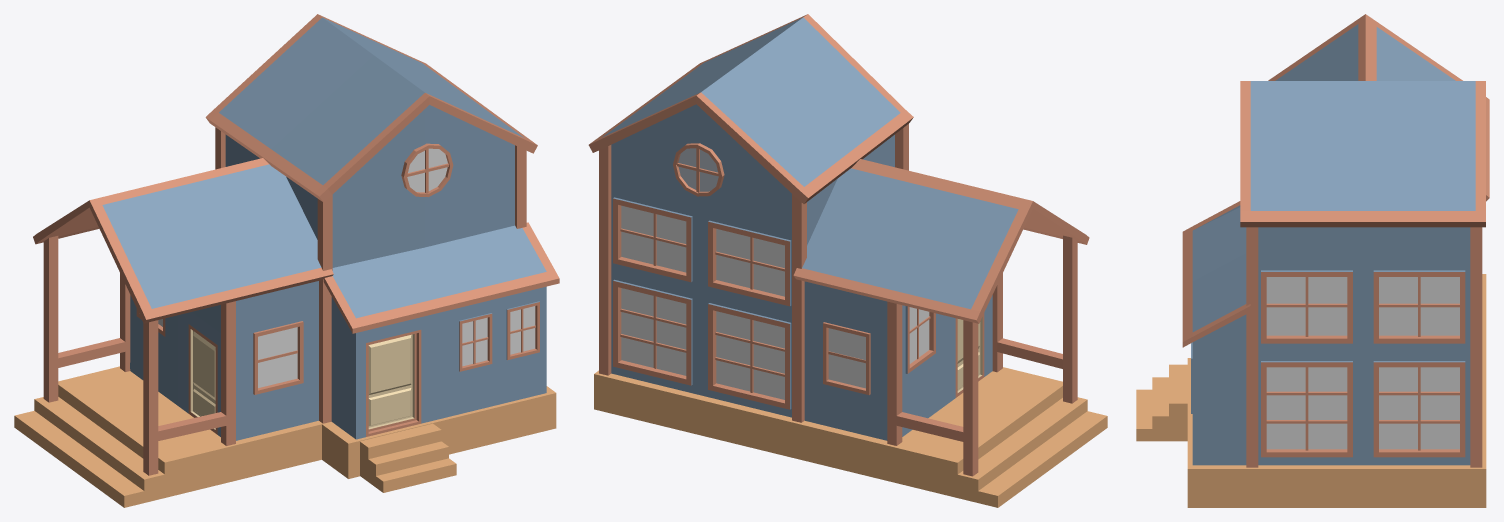
The model's file is suburban-house-A.fbx.
The picture shows the model from 3 angles, left to right: view 1: azimuth 30°, elevation 25°; view 2: azimuth 150°, elevation 25°; view 3: azimuth 270°, elevation 25°; orthographic projection. The views are drawn at different scales.
Parts seen in each view (by area): view 1: suburban-house-A; view 2: suburban-house-A; view 3: suburban-house-A.
Part boxes in pixels (box(x1,y1,x2,y2)): suburban-house-A: box(14, 14, 559, 507); suburban-house-A: box(588, 14, 1107, 507); suburban-house-A: box(1136, 14, 1489, 507).
Size of the model in its own units: 11.35 by 8.96 by 7.72.
